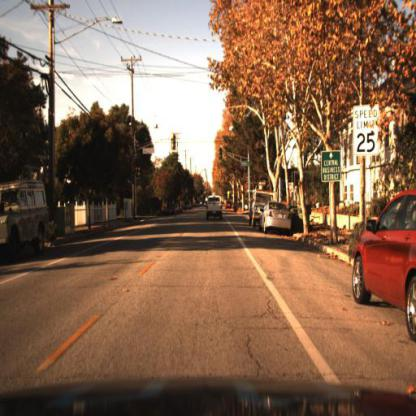car: (351, 189, 416, 342), (1, 177, 49, 267), (260, 193, 294, 239), (248, 183, 275, 233), (258, 202, 295, 238), (200, 185, 220, 223), (246, 188, 262, 228)
trafficLight-Green: (217, 146, 225, 167), (219, 146, 226, 163)
